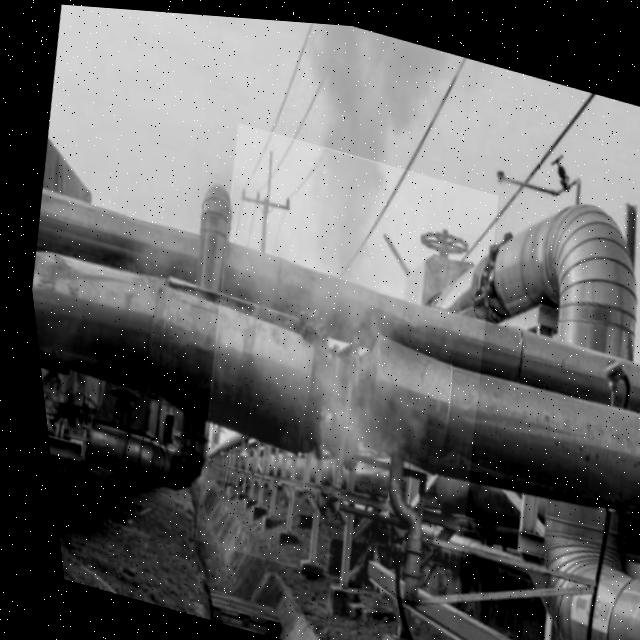corrosion: (195, 123, 498, 613)
